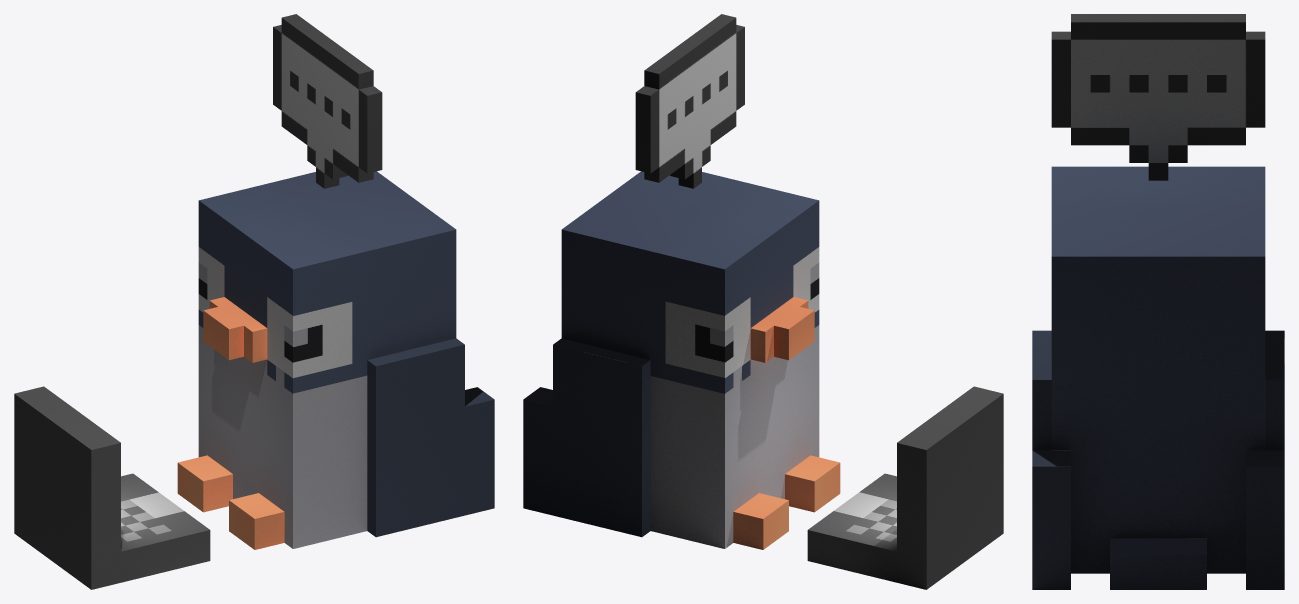
Rendered from penguin-voxel.glb.
3 views of the same model, side by side, from view 1: azimuth 30°, elevation 25°; view 2: azimuth 150°, elevation 25°; view 3: azimuth 270°, elevation 25° (orthographic). The views are drawn at different scales.
Visible parts, largest first — view 1: Penguin Voxel, Text Bubble; view 2: Penguin Voxel, Text Bubble; view 3: Penguin Voxel, Text Bubble.
Part boxes in pixels (x1,y1,x2,y2): Penguin Voxel: [14, 171, 494, 589]; Text Bubble: [273, 14, 382, 188]; Penguin Voxel: [523, 171, 1003, 589]; Text Bubble: [635, 14, 744, 188]; Penguin Voxel: [1032, 166, 1284, 589]; Text Bubble: [1051, 14, 1265, 180].
Size of what is drawn, in the model's own units: 2.6 by 2.9 by 1.3.
Materials: 2 (2 with a texture image).
